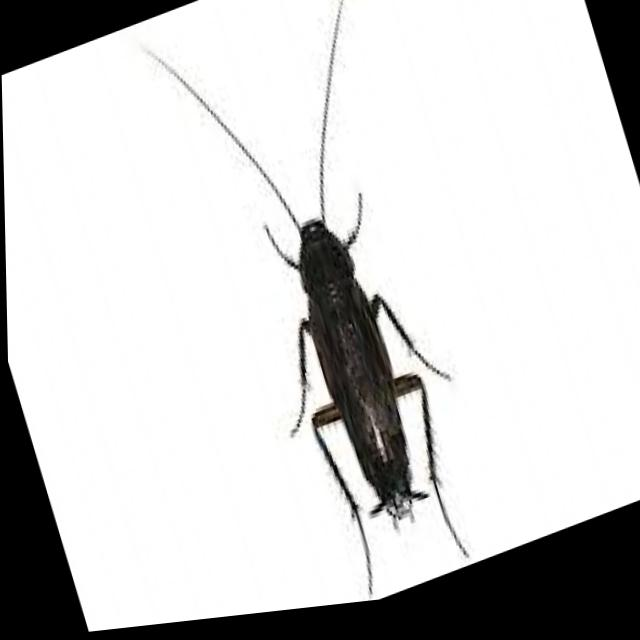Cockroach: (152, 0, 519, 627)
